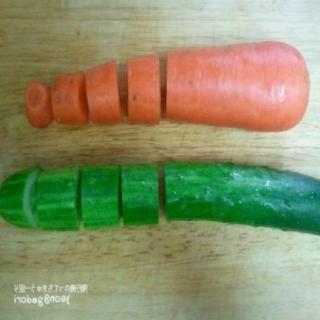carrot: (166, 41, 310, 132)
